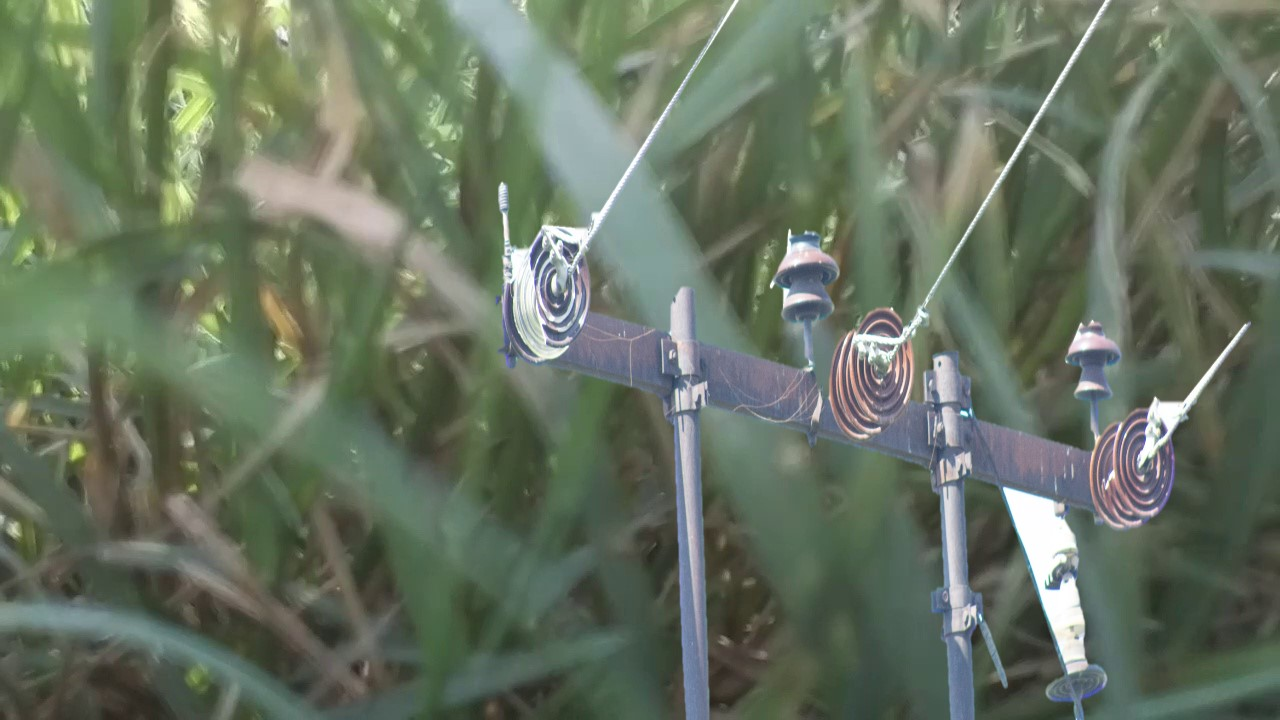defect_disc: (529, 219, 596, 353)
insulator_disc: (845, 300, 918, 422), (1109, 404, 1179, 519)
